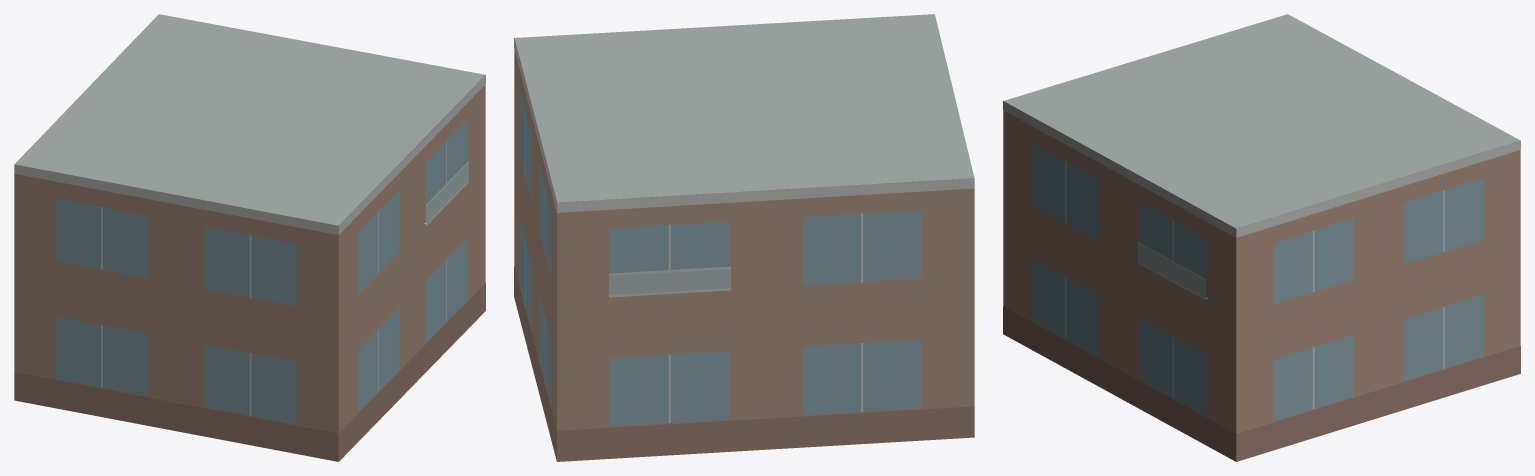
Rendered from survey-upis-32582544.glb.
The picture shows the model from 3 angles, left to right: view 1: azimuth 30°, elevation 25°; view 2: azimuth 150°, elevation 25°; view 3: azimuth 270°, elevation 25°; orthographic projection. The views are drawn at different scales.
Parts seen in each view (by area): view 1: survey-upis-32582544.tmp; view 2: survey-upis-32582544.tmp; view 3: survey-upis-32582544.tmp.
Part boxes in pixels (bbox=[...]): survey-upis-32582544.tmp: bbox=[14, 14, 485, 461]; survey-upis-32582544.tmp: bbox=[514, 14, 974, 461]; survey-upis-32582544.tmp: bbox=[1003, 14, 1520, 461].
Bounding box in the file's own units: 12.05 × 6.1 × 12.27.
